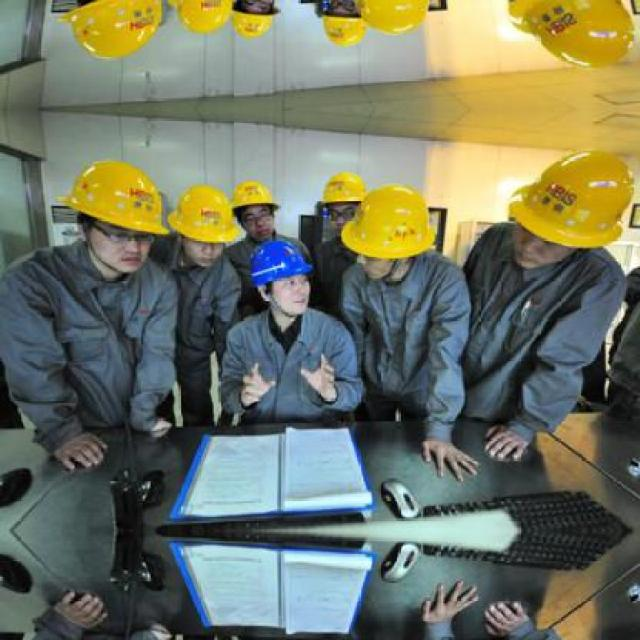helmet: (496, 145, 633, 273), (58, 157, 160, 274), (495, 0, 634, 71), (350, 183, 432, 274), (244, 233, 318, 321), (57, 0, 161, 60), (168, 178, 234, 264), (315, 162, 374, 236), (225, 169, 283, 243), (315, 0, 375, 55), (224, 0, 284, 48), (349, 0, 433, 32), (167, 0, 235, 38)
